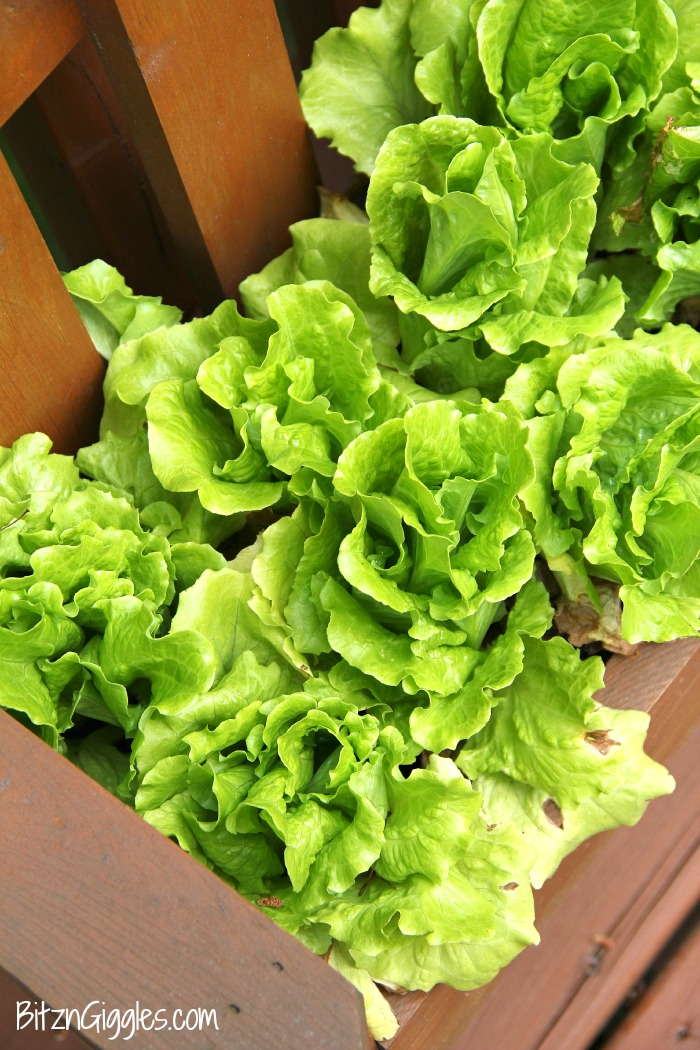chopped lettuce: (365, 79, 669, 605), (55, 539, 539, 814)
